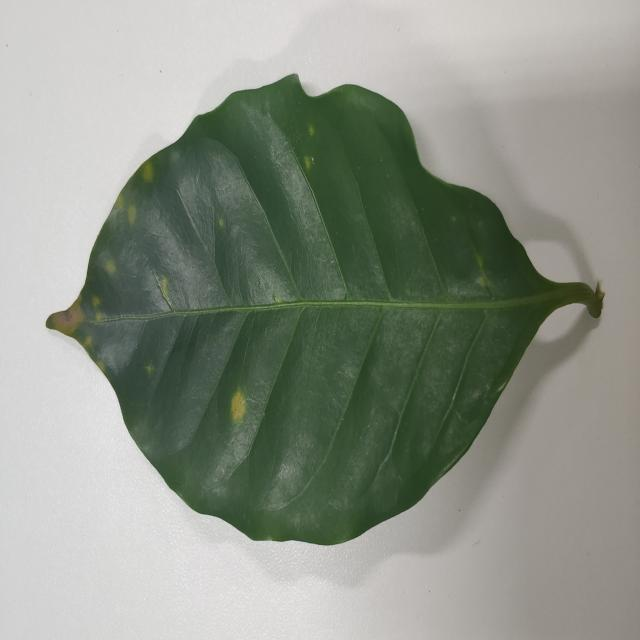Enfermedad-Roya: (46, 75, 605, 547)
